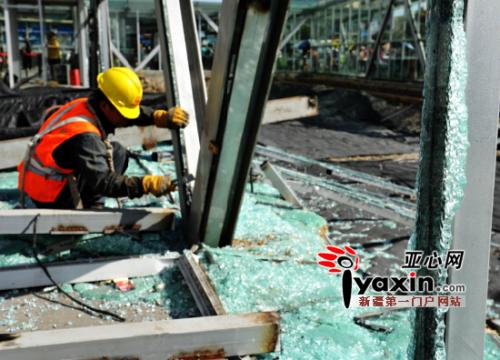gloves: (126, 173, 172, 199), (153, 106, 189, 130)
hard-hat: (96, 65, 143, 119)
person: (16, 65, 190, 210)
vest: (15, 95, 133, 210)
